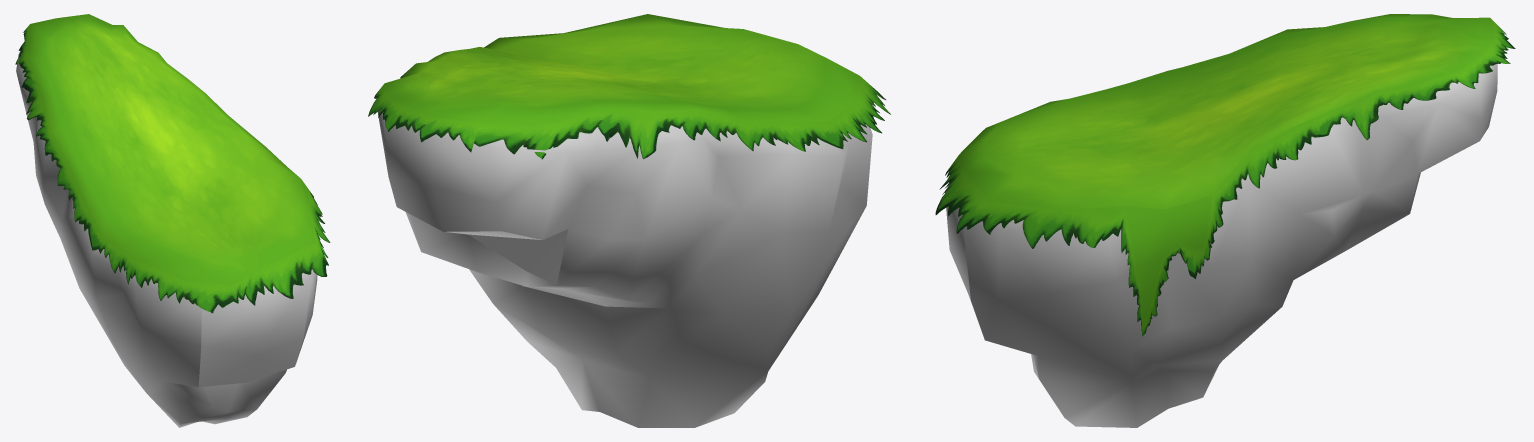
Rendered from Island_Small_07.fbx.
The picture shows the model from 3 angles, left to right: view 1: azimuth 30°, elevation 25°; view 2: azimuth 150°, elevation 25°; view 3: azimuth 270°, elevation 25°; orthographic projection. The views are drawn at different scales.
Parts seen in each view (by area): view 1: Island_Small_07; view 2: Island_Small_07; view 3: Island_Small_07.
Part boxes in pixels (x1,y1,x2,y2): Island_Small_07: [15, 14, 330, 427]; Island_Small_07: [368, 14, 890, 427]; Island_Small_07: [935, 14, 1515, 427].
Bounding box in the file's own units: 296 × 365 × 517.
